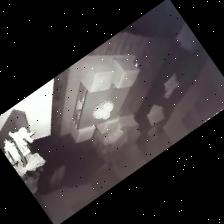person: (93, 127, 127, 145)
